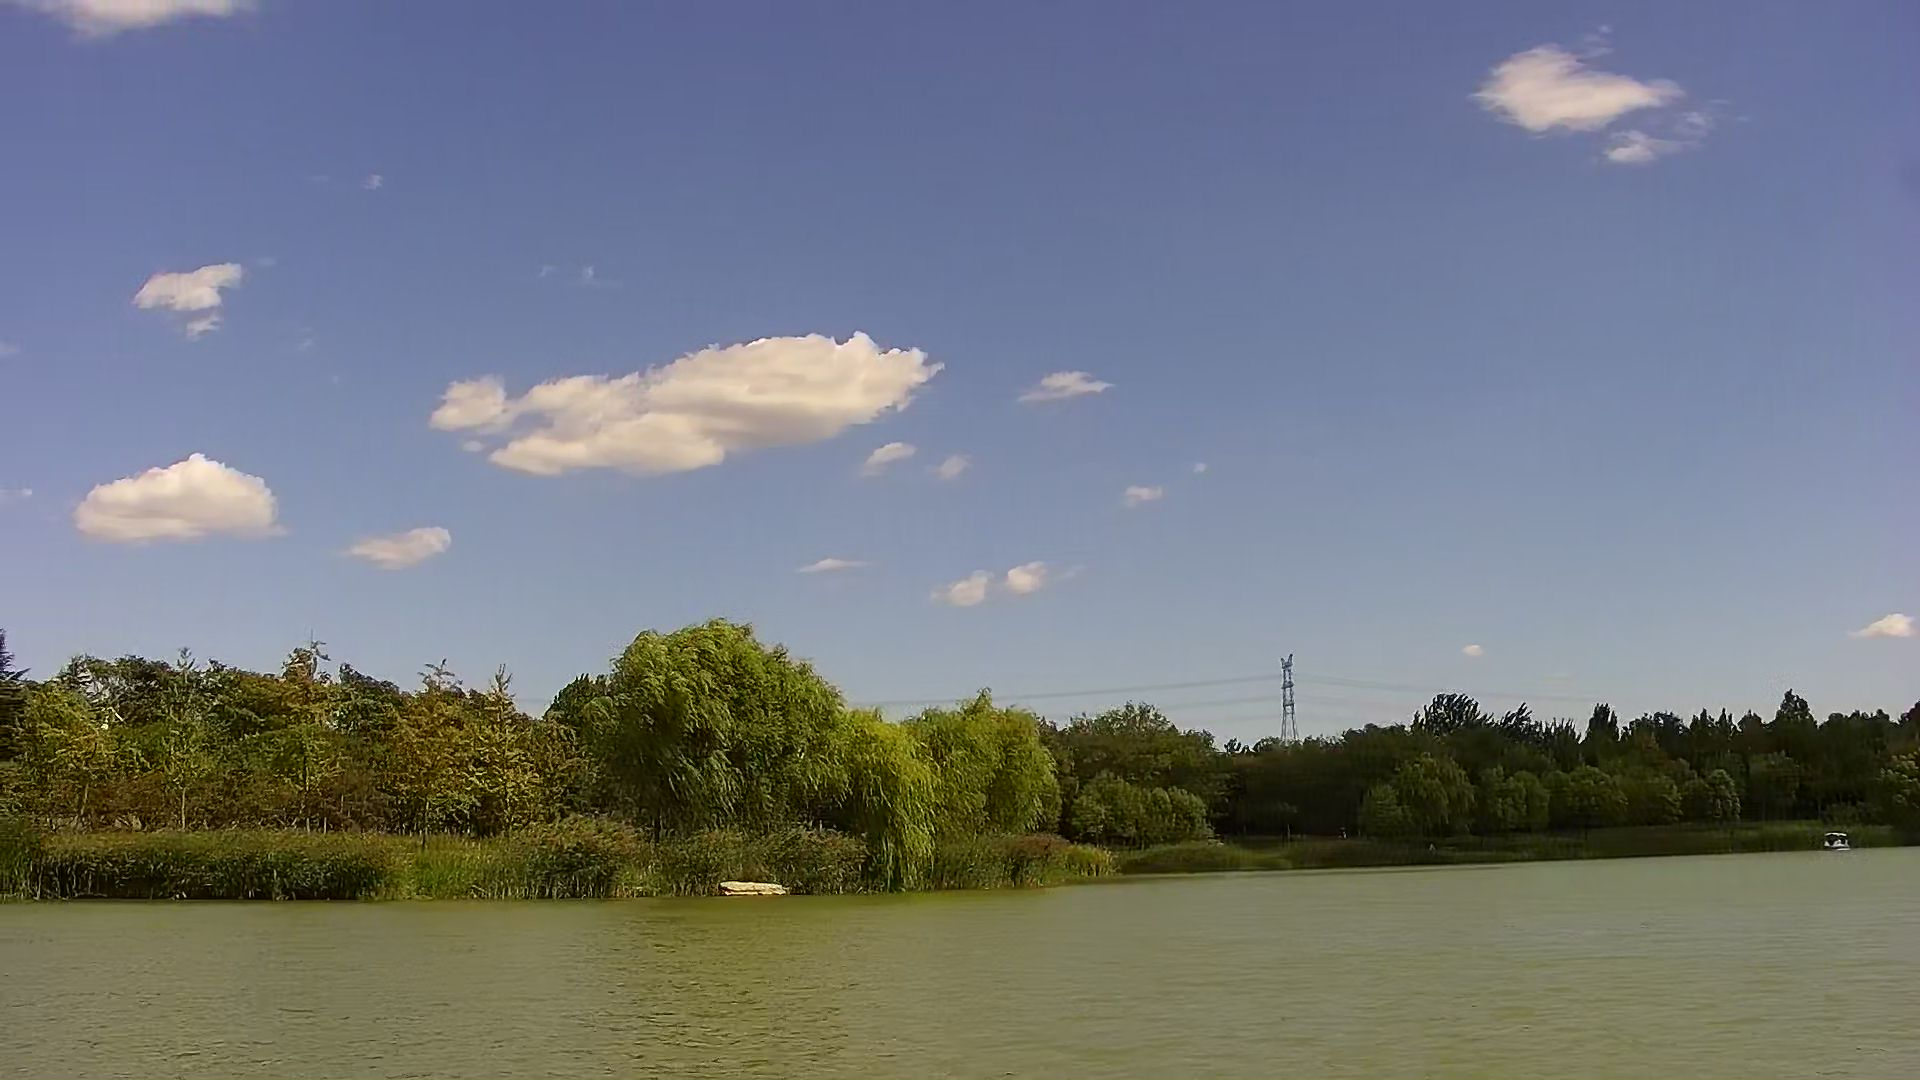boat: (1815, 829, 1853, 855)
